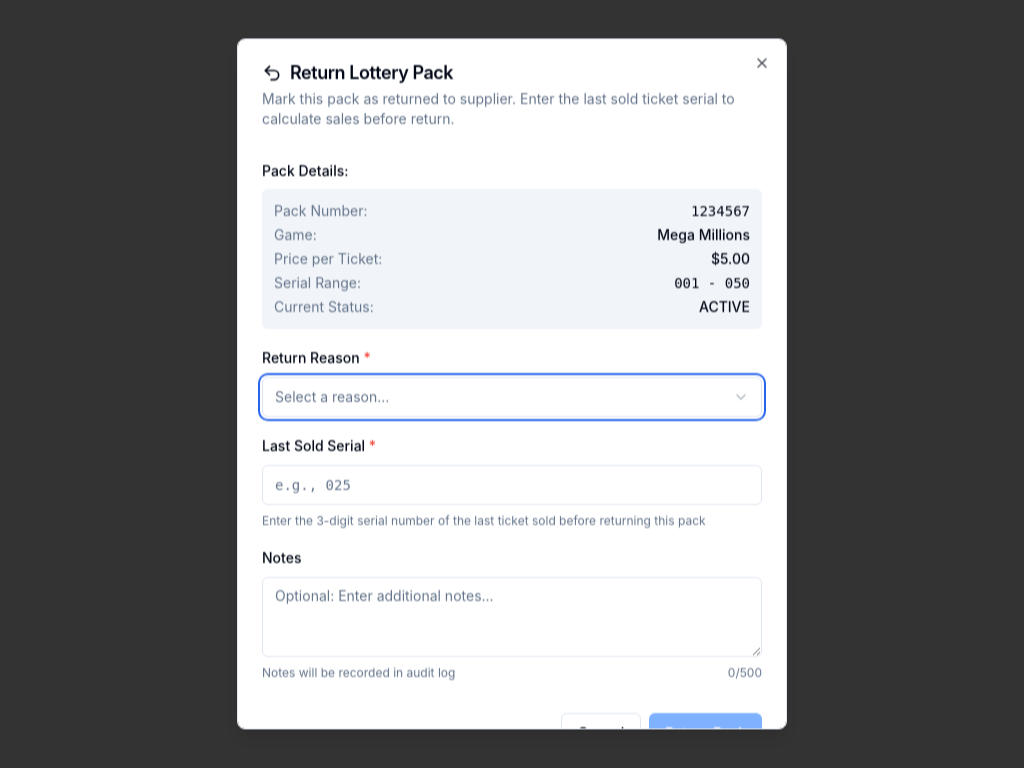
Test: ReturnPackDialog Component › Form Validation › VAL-006: [P0] should enable submit when all required fields are valid
Click the dropdown with test id "return-reason-select" at (332,397), box 262,377 -> 762,417
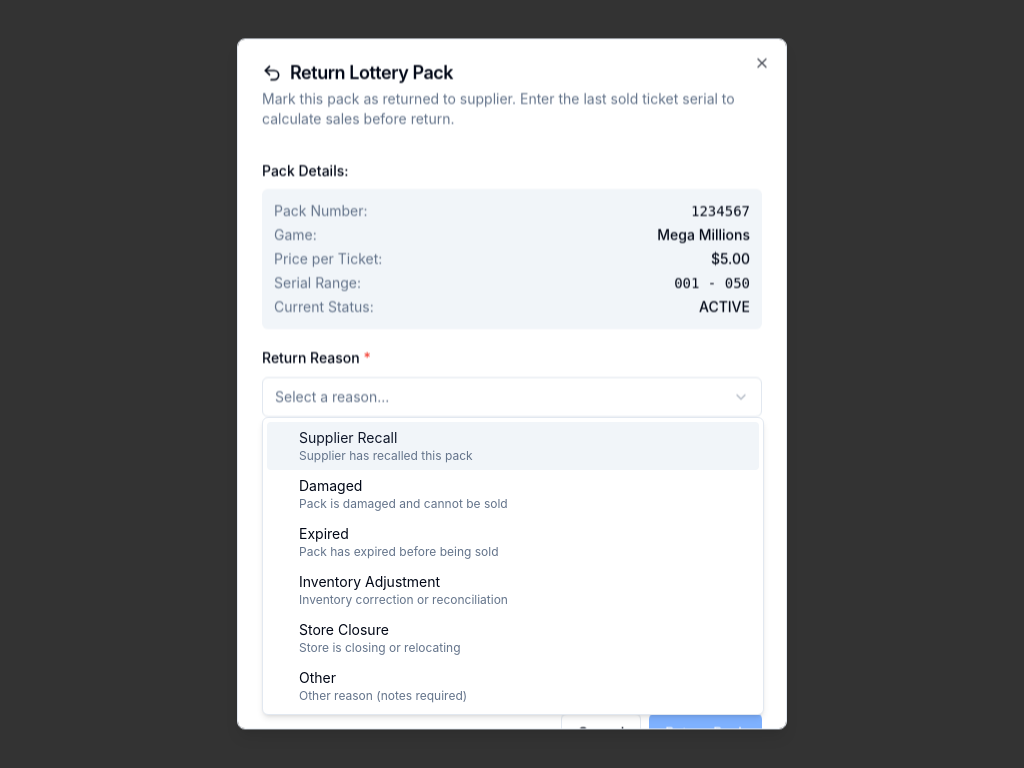
Click the text "Damaged" at (331,486), box 299,477 -> 362,494
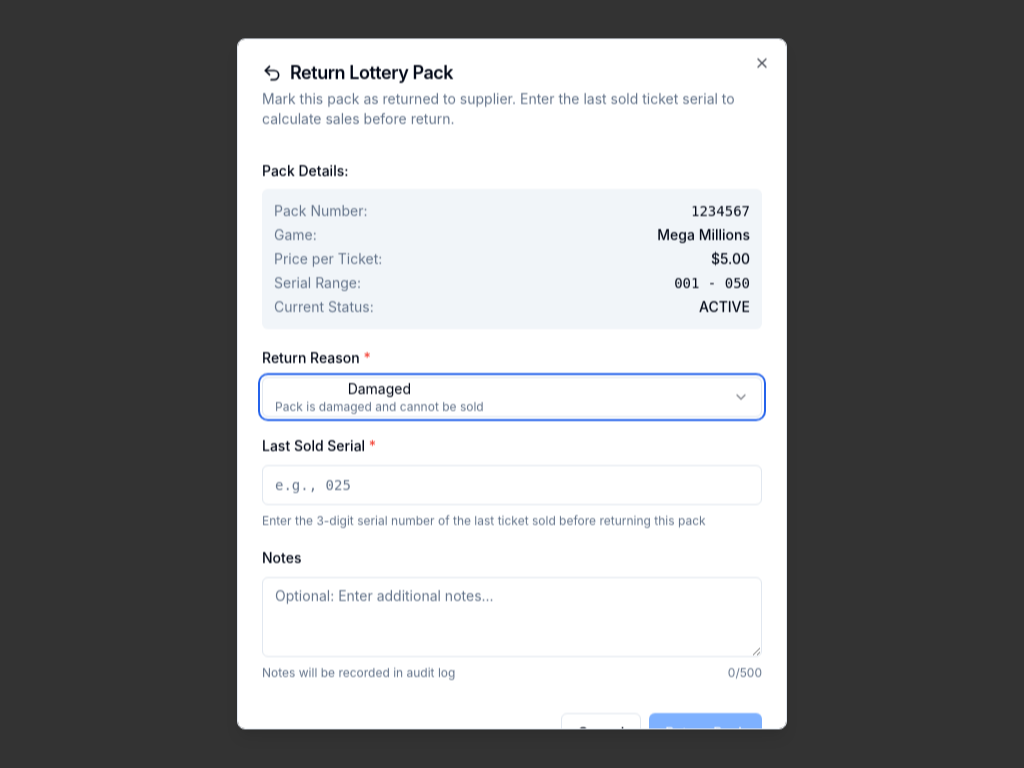
# Enter valid serial
Type "025" into the field with test id "last-sold-serial-input" at (512,485), box 262,465 -> 762,505
(page scrolled)
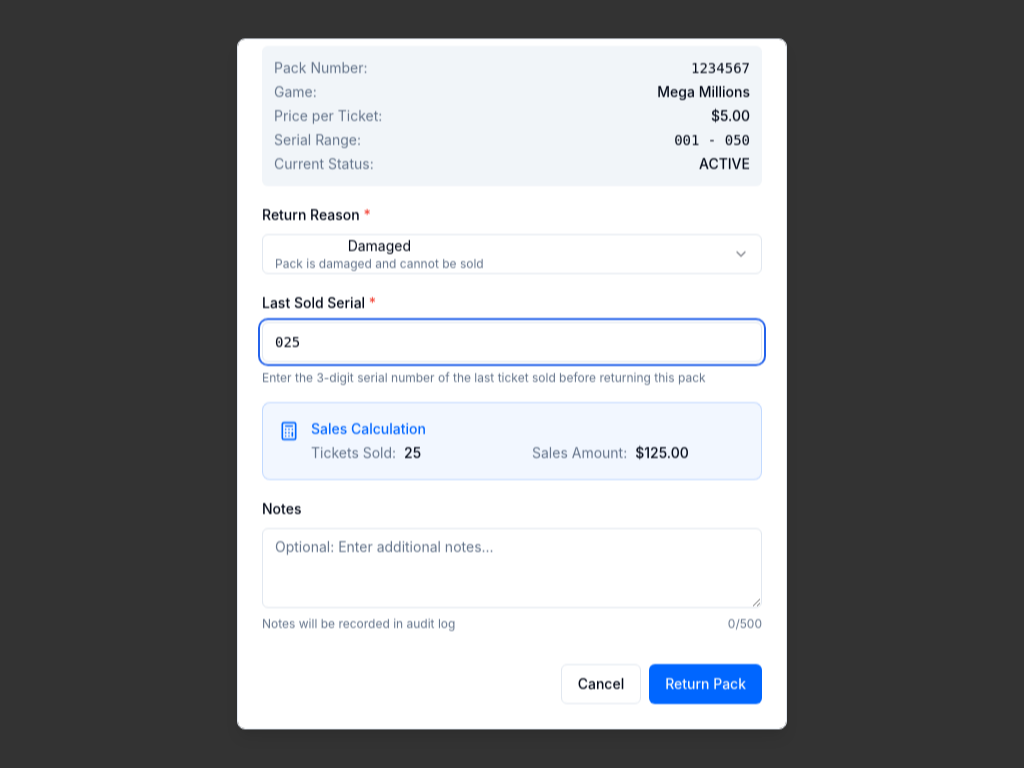
Expected: the button with test id "confirm-return-button" is enabled, 649,664 -> 762,704
